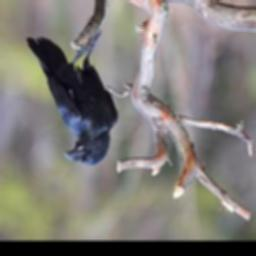Crow: (23, 31, 119, 168)
